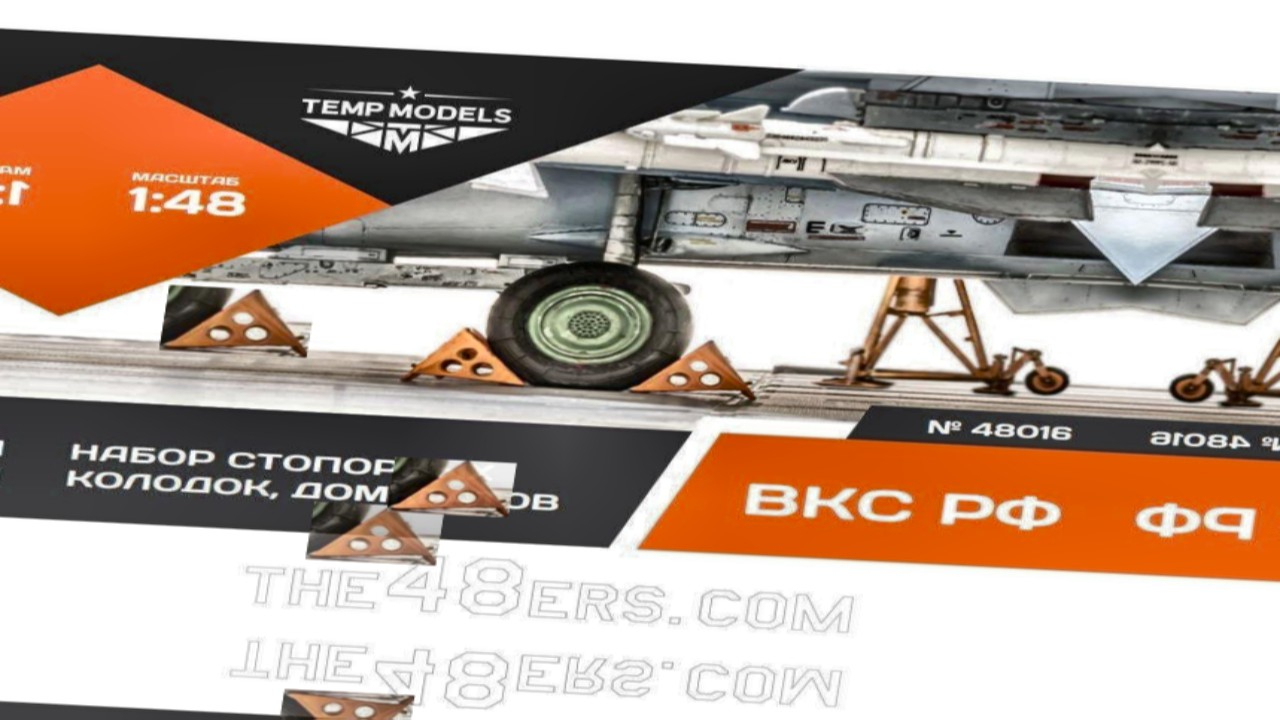chock: (159, 286, 317, 359), (305, 502, 445, 567), (625, 338, 763, 402), (400, 326, 534, 388), (387, 458, 517, 518), (275, 691, 415, 720)
wheel: (475, 254, 702, 392), (1020, 364, 1071, 396), (1170, 372, 1221, 404)
